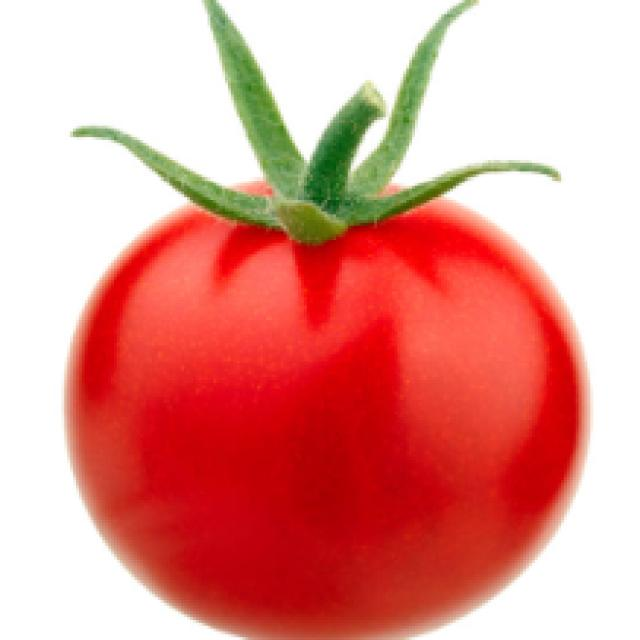Tomato: (56, 85, 598, 640)
